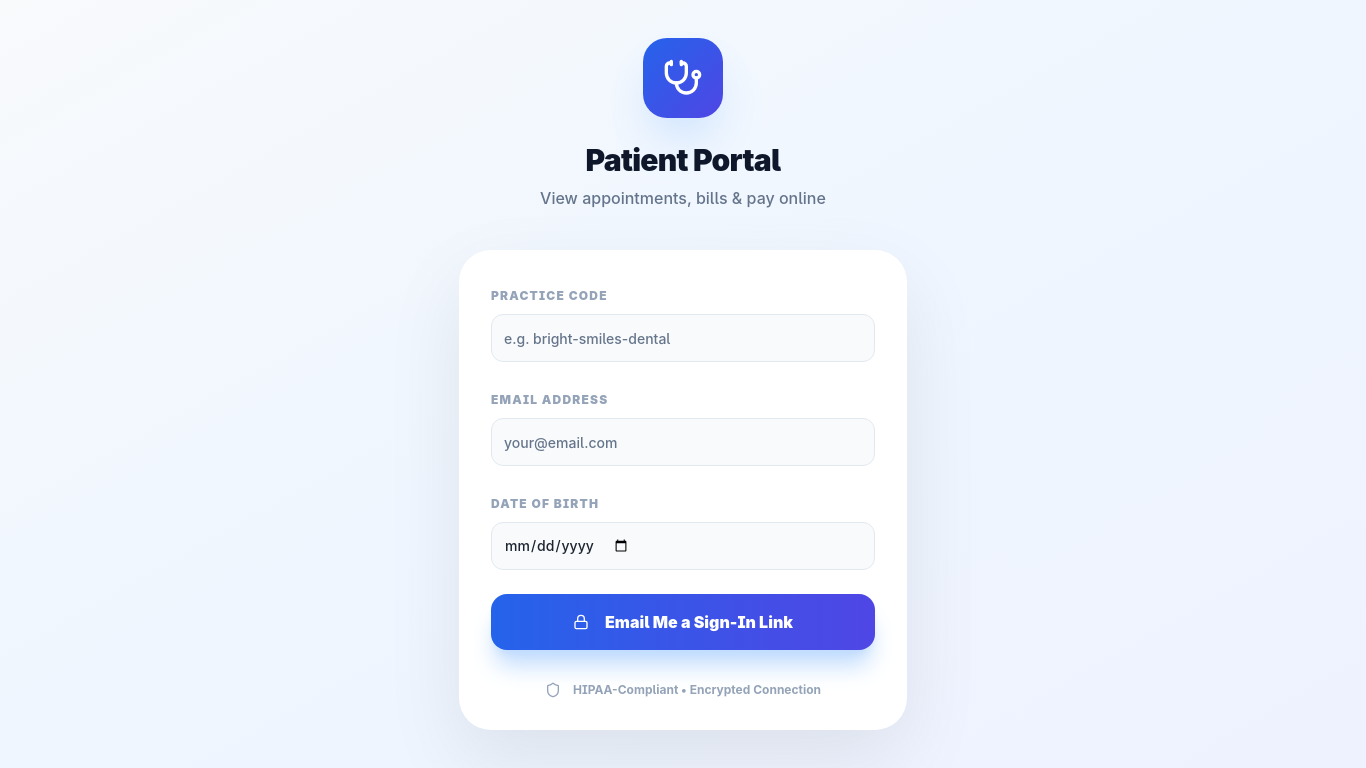
Test: PatientPortal Page › Login Flow › shows error on login failure
Step 1. Type "bright-smiles" into the field with placeholder "e.g. bright-smiles-dental" → (683, 338), box 491,314 -> 875,362
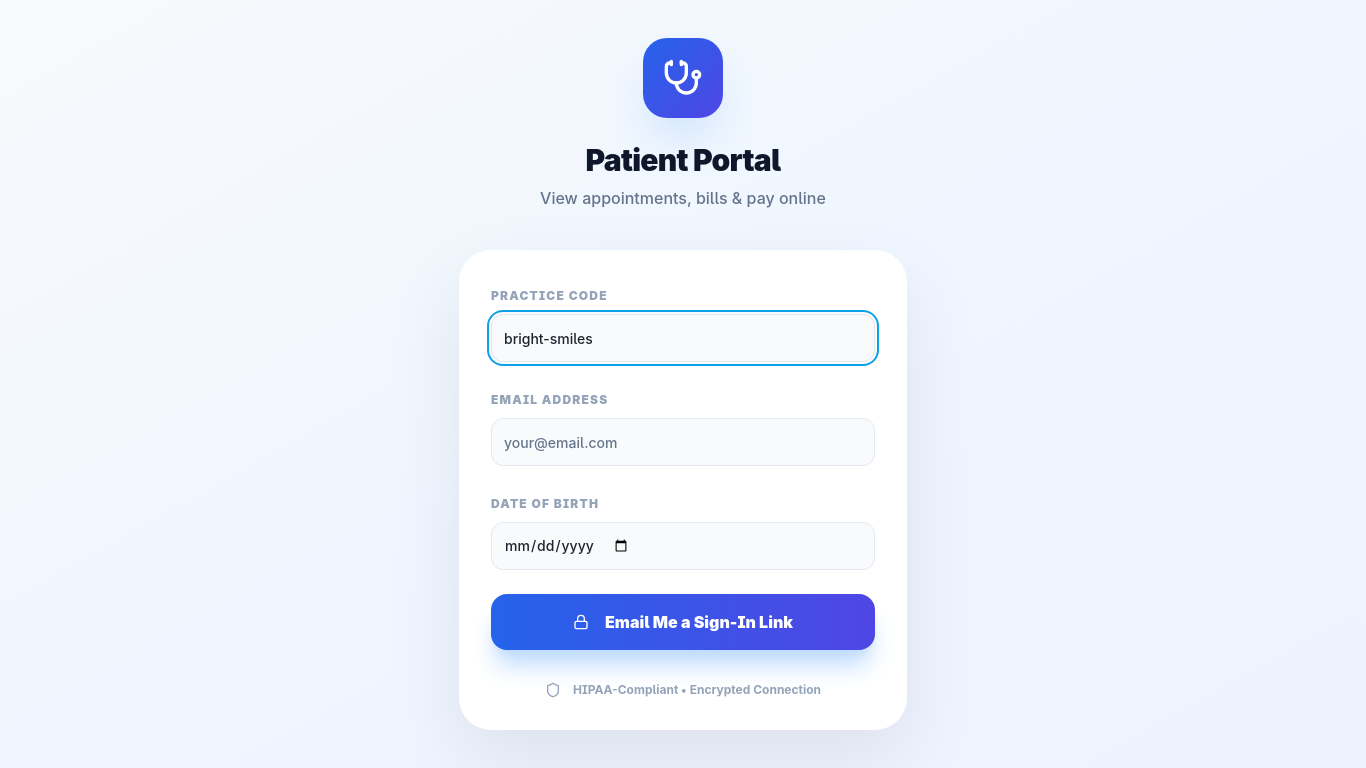
Step 2. Type "wrong@example.com" into the field with placeholder "your@email.com" → (683, 442), box 491,418 -> 875,466
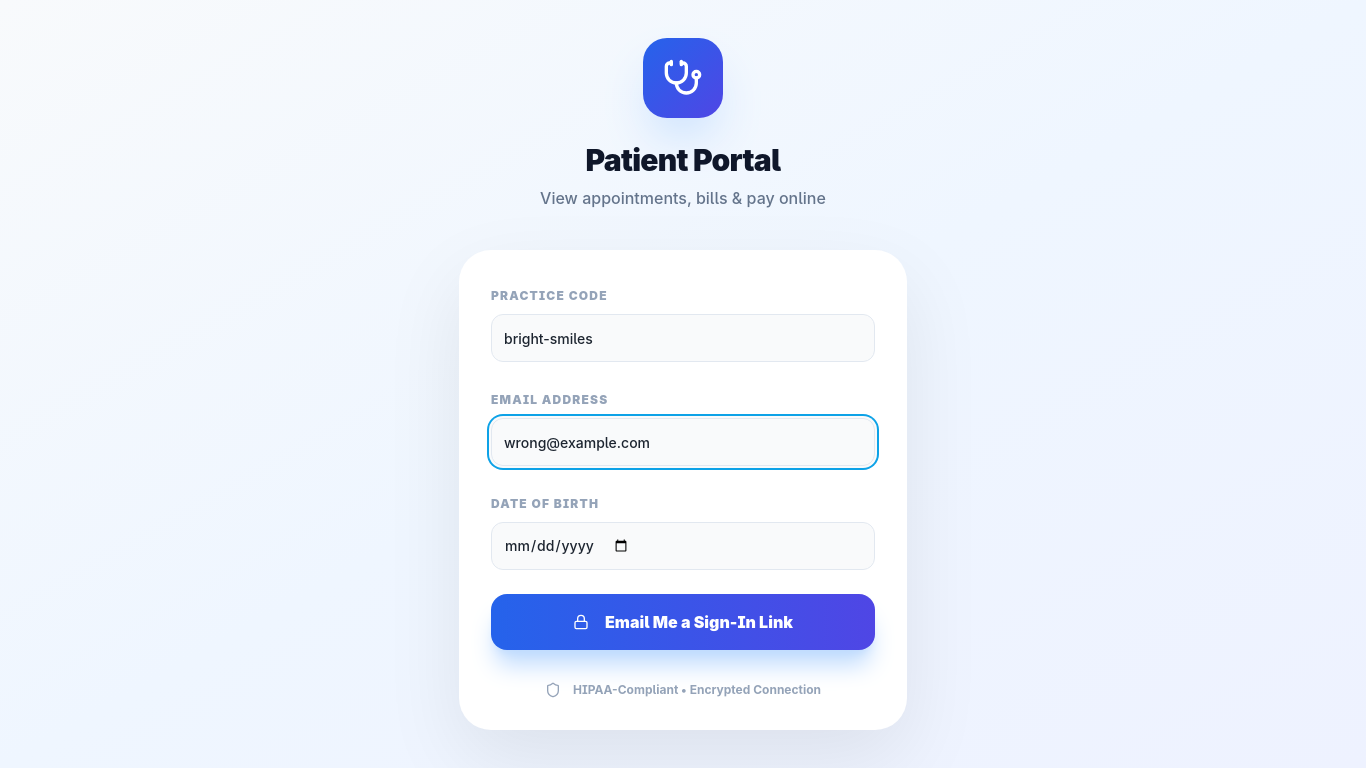
Step 3. Type "1990-01-01" into the date field → (683, 546), box 491,522 -> 875,570
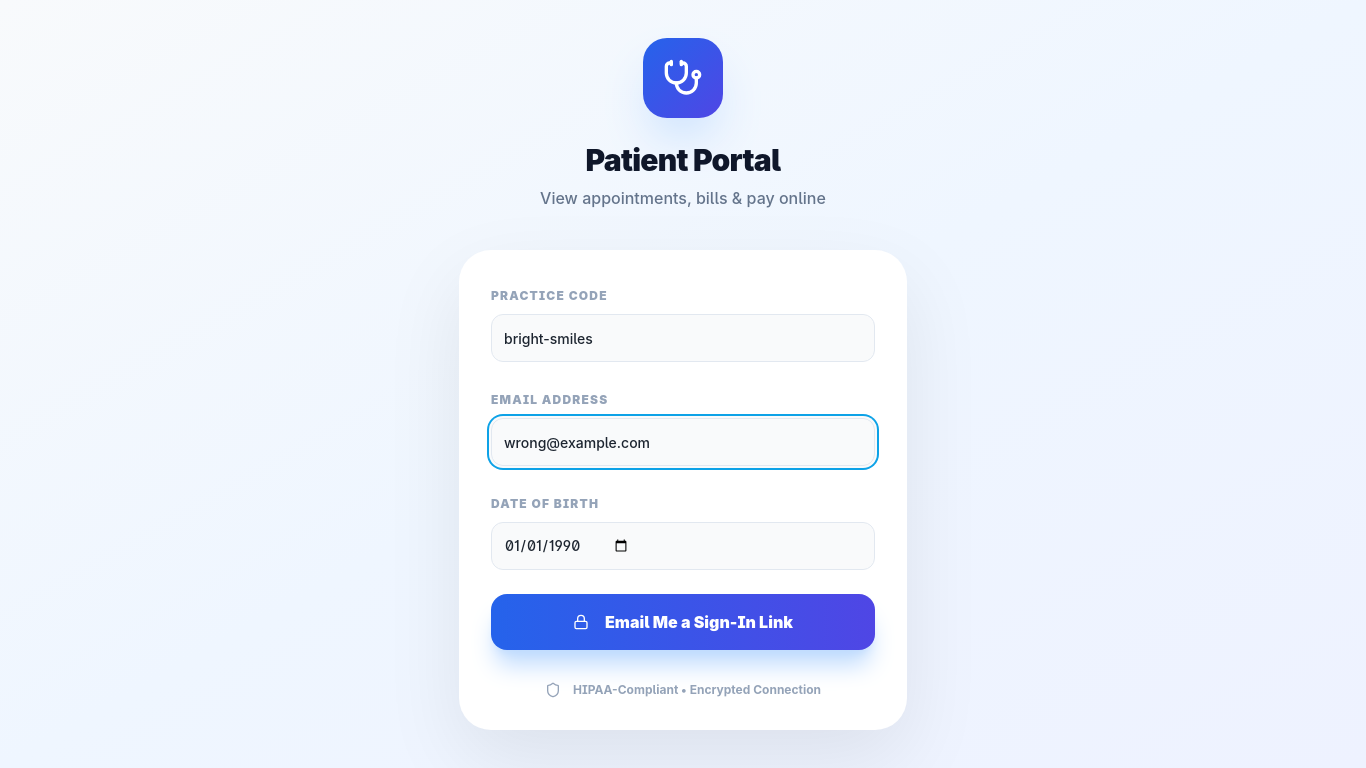
Step 4. Click the button "Email Me a Sign-In Link" → (683, 622), box 491,594 -> 875,650
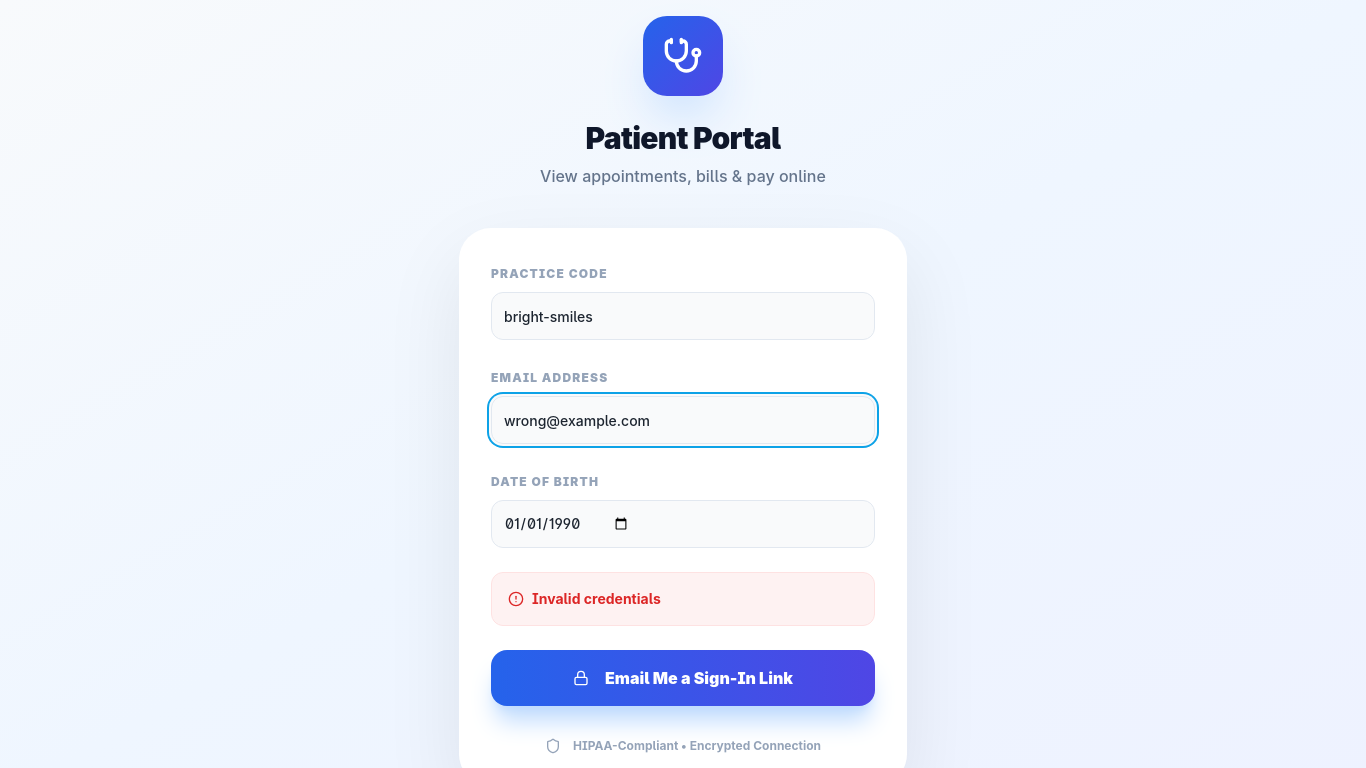
Expected: the text "Invalid credentials" is shown, 491,572 -> 875,626
